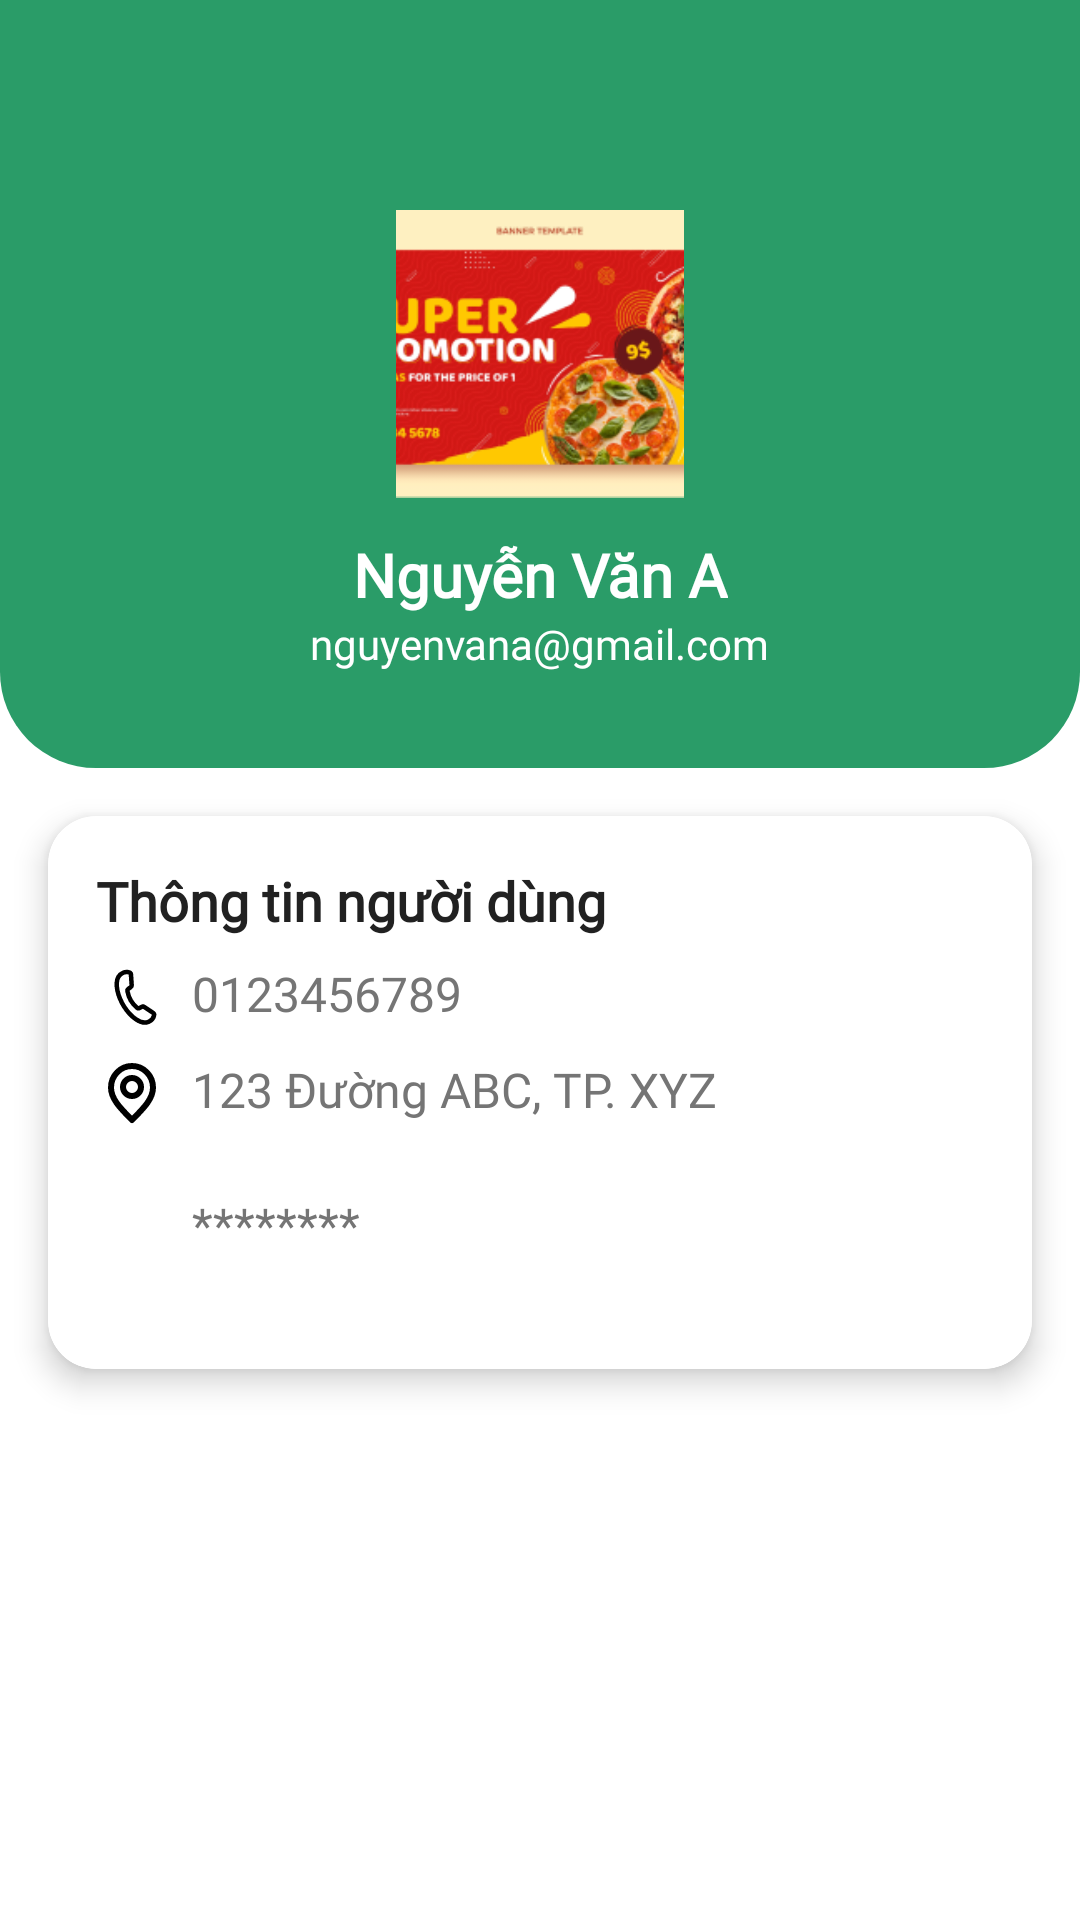

Icon bounding boxes for this 1080w x 1920h phone screenshot, format (x1, y1, x2, y2):
location: (108, 1063, 156, 1123)
phone: (114, 969, 157, 1025)
